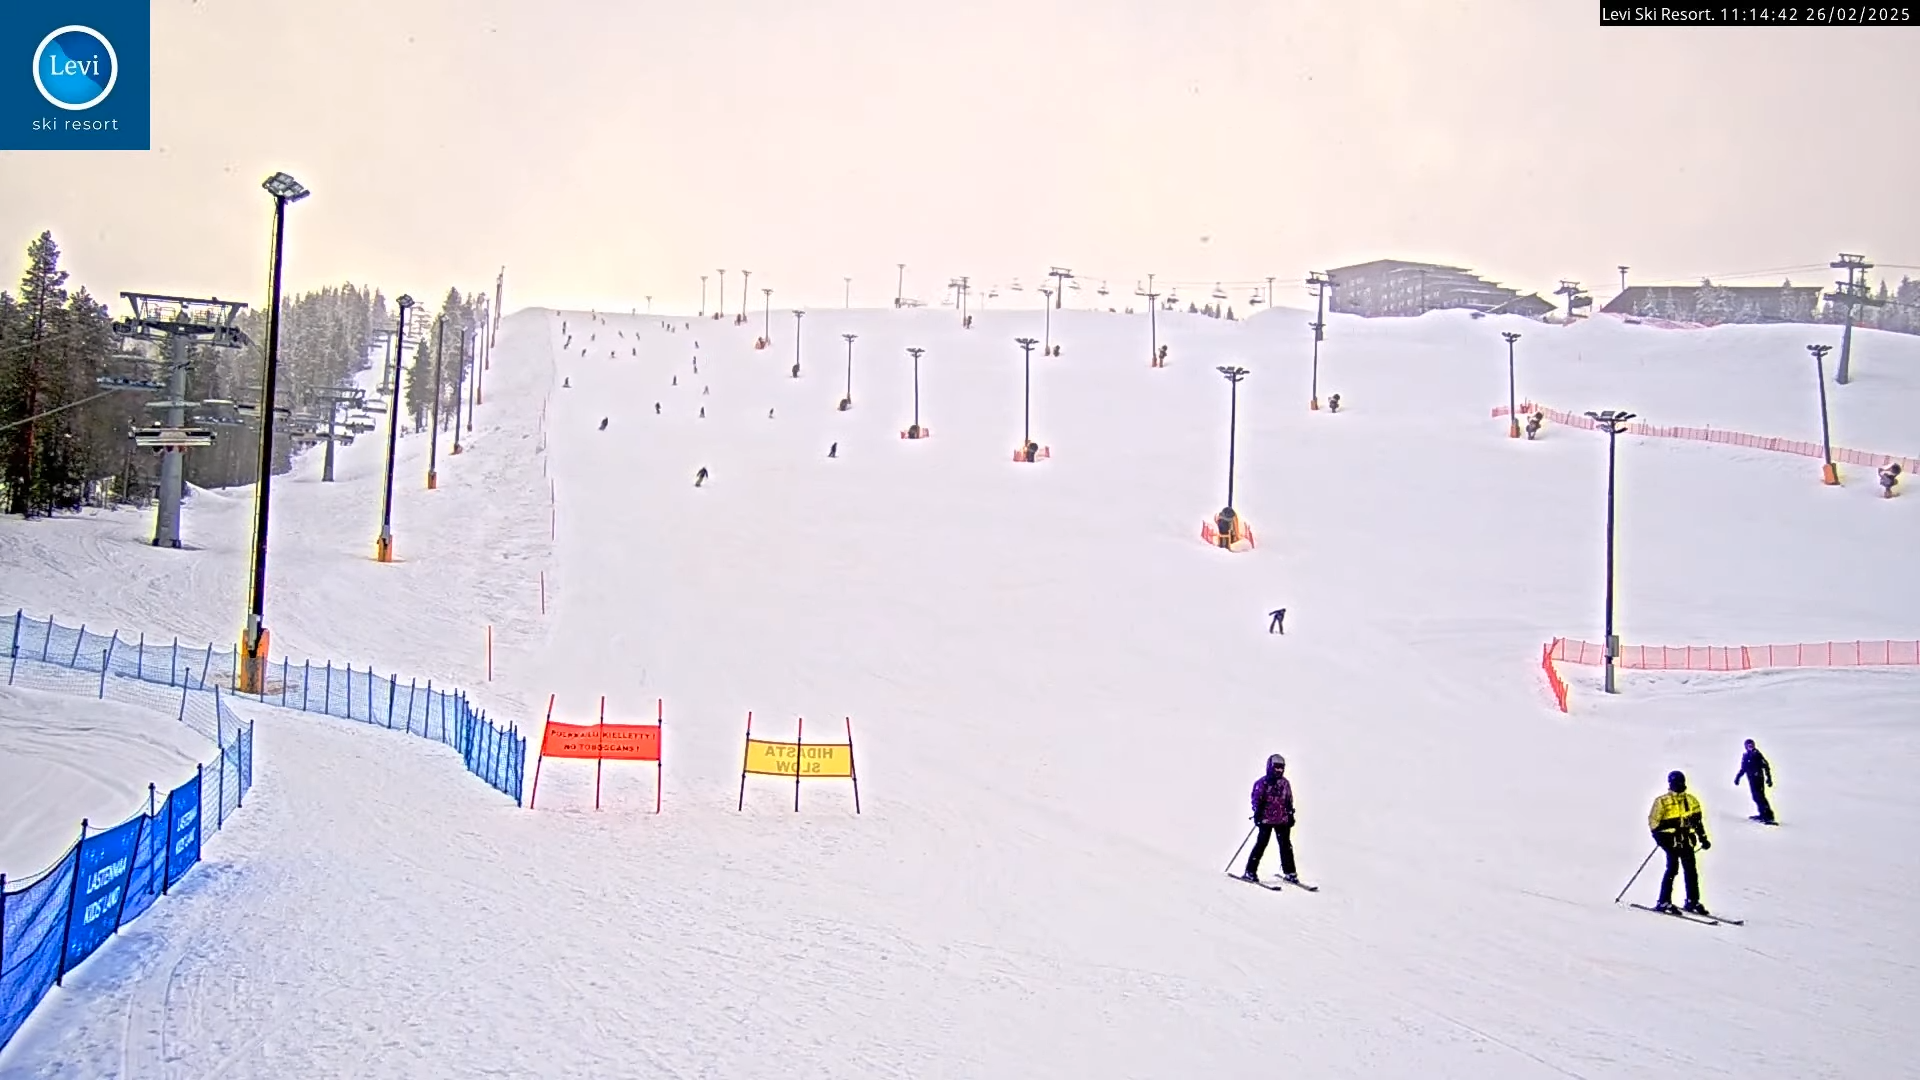skier: (1615, 770, 1746, 938), (1226, 753, 1320, 895)
snowboarder: (1733, 737, 1788, 829)
